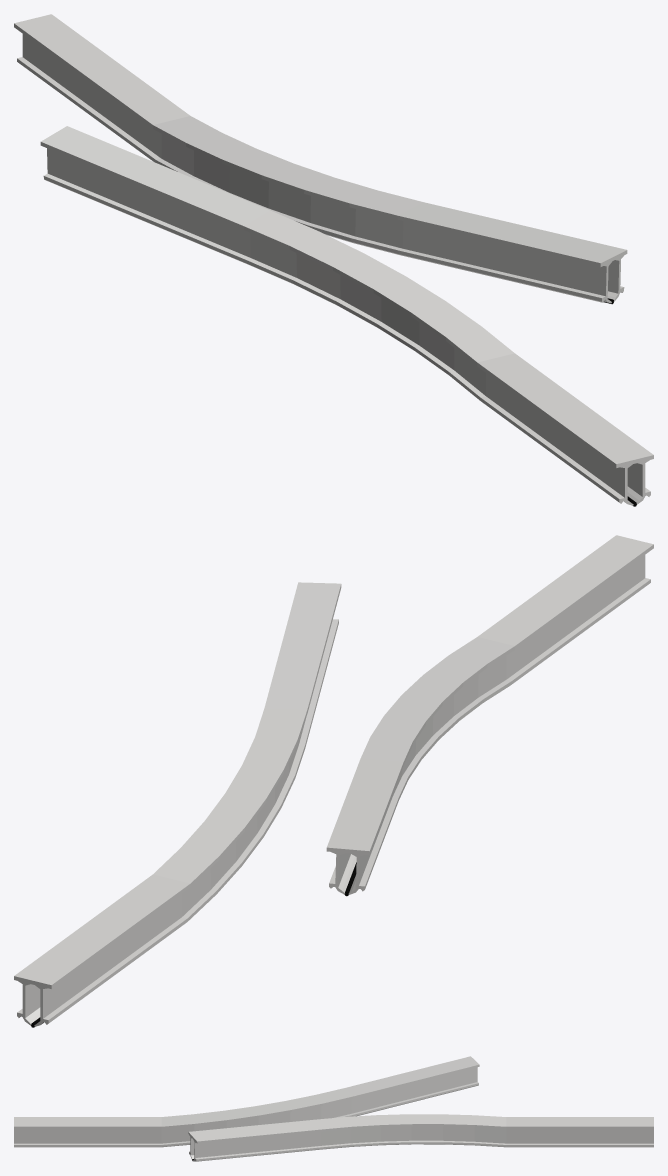
Rendered from catenary_rigid_end_pair.obj.
3 renders of one model, top to bottom at view 1: azimuth 30°, elevation 25°; view 2: azimuth 150°, elevation 25°; view 3: azimuth 270°, elevation 25°, orthographic. The views are drawn at different scales.
Parts seen in each view (by area): view 1: 1.001, 1.002; view 2: 1.002, 1.001; view 3: 1.002, 1.001.
Boxes of the visible parts, x1,y1,x2,y2 form: 1.001: [40, 126, 653, 506]; 1.002: [14, 14, 627, 304]; 1.002: [14, 582, 341, 1027]; 1.001: [326, 535, 653, 896]; 1.002: [188, 1114, 653, 1161]; 1.001: [14, 1056, 479, 1147].
Size of the model in its own units: 1.64 by 0.4373 by 5.2.
4 materials, 4 textured.
